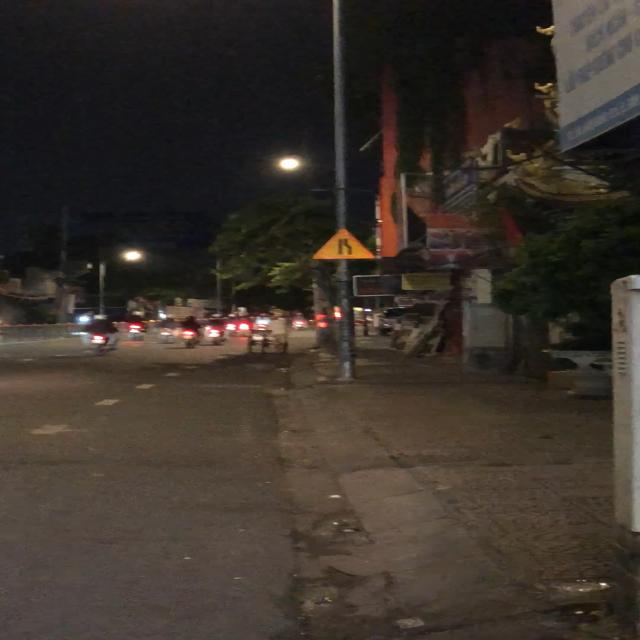Bien bao duong bi thu hep: (310, 224, 378, 260)
